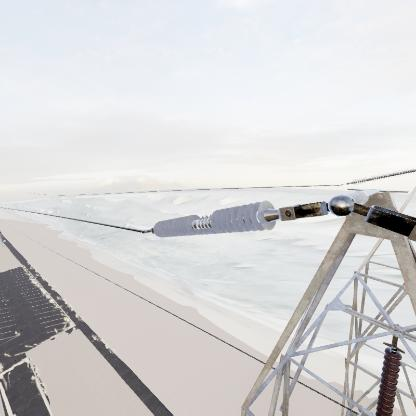insulator: (149, 196, 281, 241)
